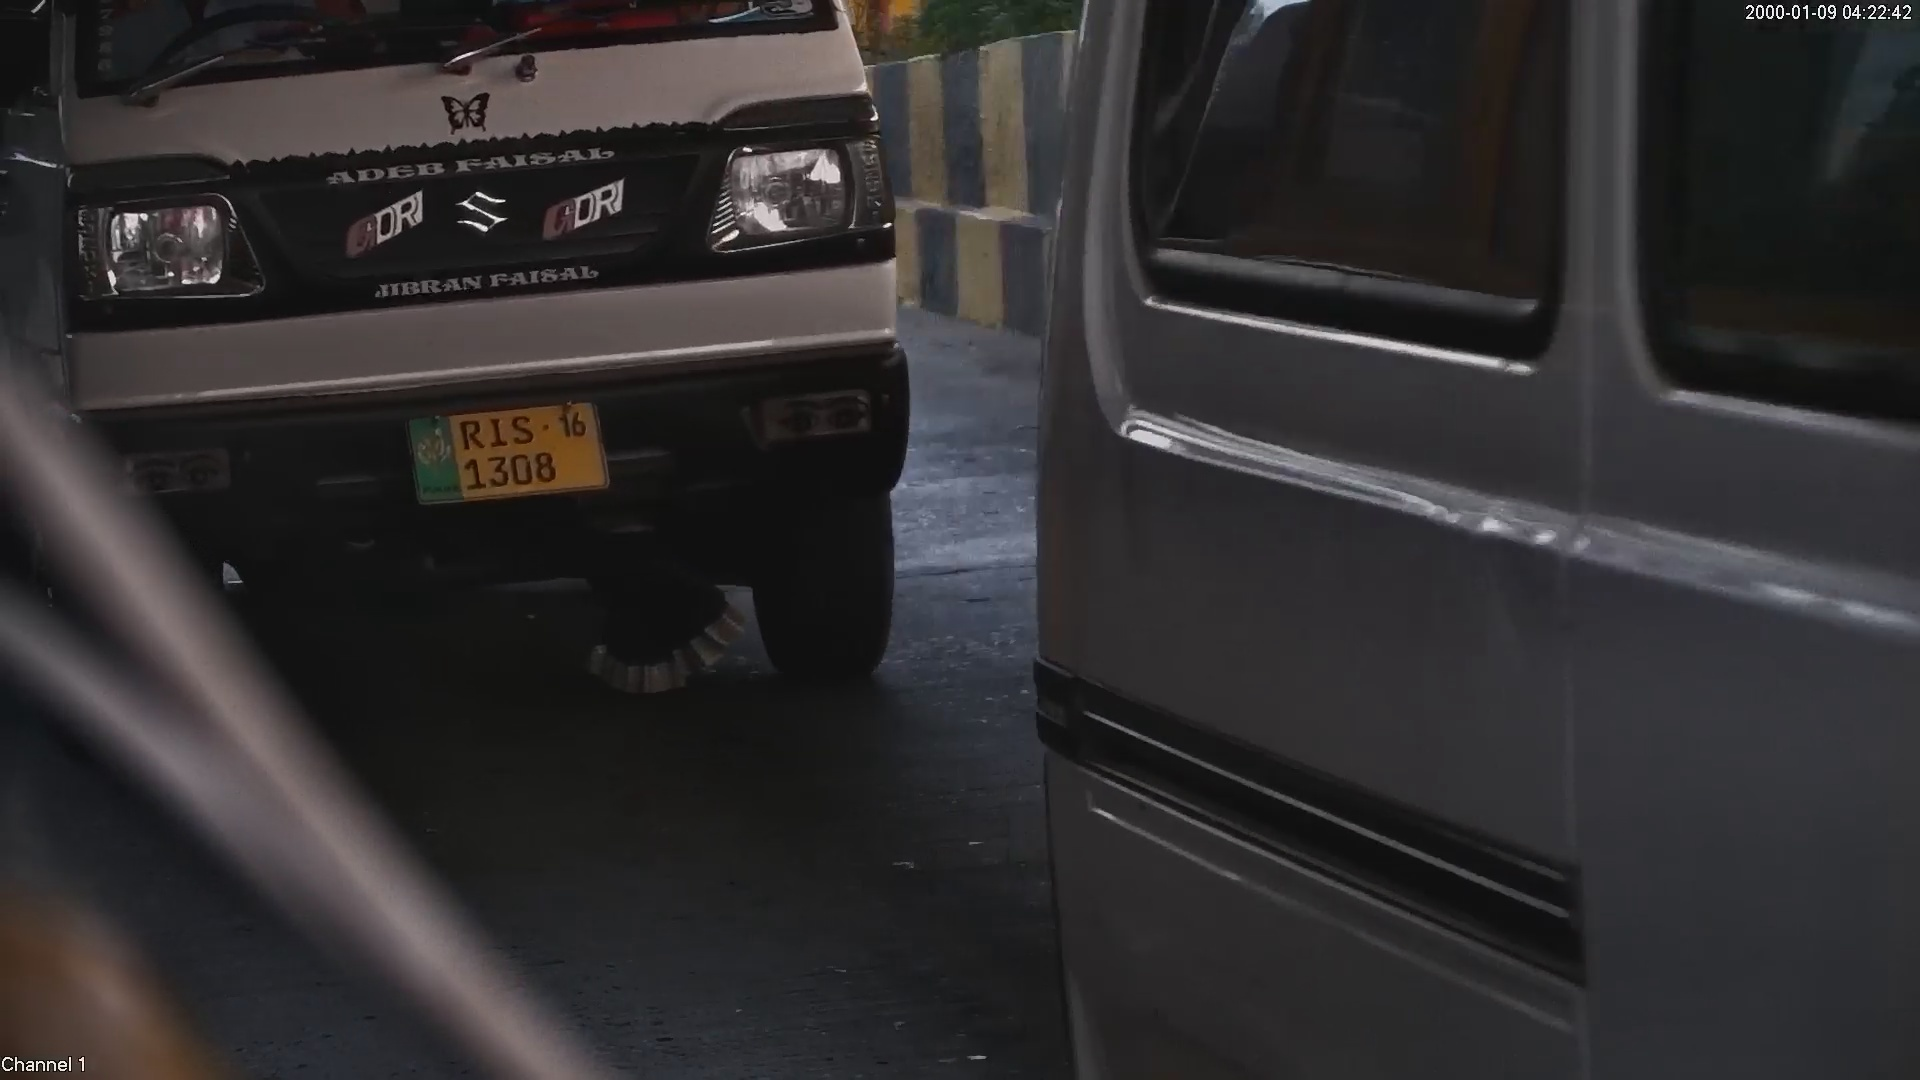Number_Plate: (406, 396, 626, 507)
Undefined: (317, 157, 647, 294), (693, 96, 887, 270), (60, 181, 280, 318), (741, 375, 889, 462), (100, 433, 245, 496)
